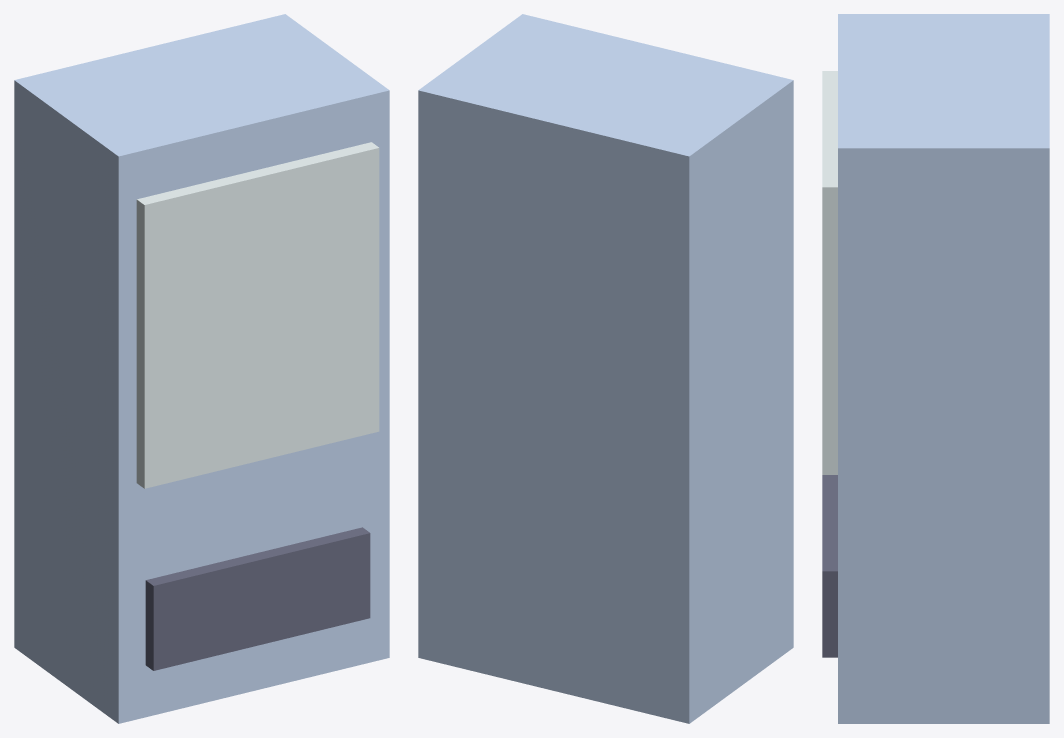
File: prop_vending_machine.glb
3 renders of one model, left to right at view 1: azimuth 30°, elevation 25°; view 2: azimuth 150°, elevation 25°; view 3: azimuth 270°, elevation 25°, orthographic.
Parts seen in each view (by area): view 1: prop_vending_machine; view 2: prop_vending_machine; view 3: prop_vending_machine.
Part boxes in pixels (x1=…): prop_vending_machine: x1=14, y1=14, x2=389, y2=723; prop_vending_machine: x1=418, y1=14, x2=793, y2=723; prop_vending_machine: x1=822, y1=14, x2=1049, y2=723.
Bounding box in the file's own units: 0.6 × 1.2 × 0.43.
